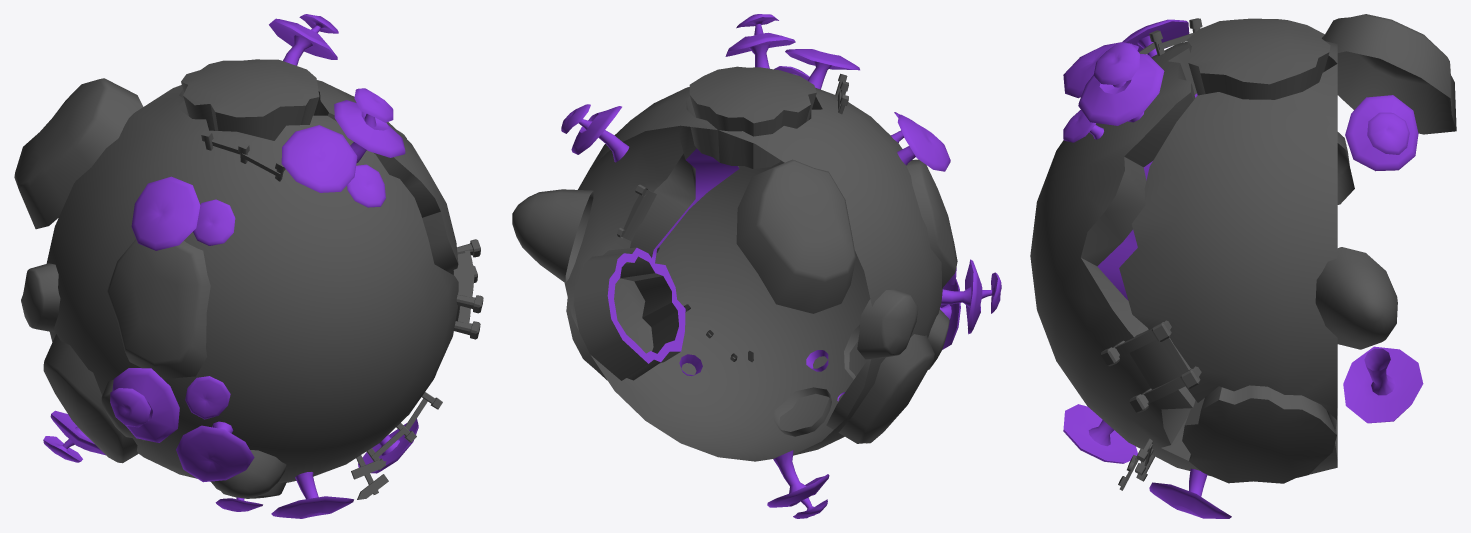
Rendered from IG_planet_01.fbx.
3 views of the same model, side by side, from view 1: azimuth 30°, elevation 25°; view 2: azimuth 150°, elevation 25°; view 3: azimuth 270°, elevation 25° (orthographic). The views are drawn at different scales.
Parts seen in each view (by area): view 1: planet_low, Mountain_05, Mountain_02, Mountain_01, Nshroom_tall_02, Nshroom_med_03, Nshroom_med, Nshroom_med_06, Nshroom_tall_01, Mountain_03, Nshroom_tall_03, bridge (+11 smaller); view 2: planet_low, Mountain_02, Mountain_01, Hill_03, Mountain_03, Mountain_05, Nshroom_tall_03, Nshroom_med_03, Nshroom_tall_04, Nshroom_tall_02, Nshroom_tall_01, Nshroom_med (+4 smaller); view 3: planet_low, Mountain_02, Hill_03, Nshroom_tall_01, Nshroom_tall_04, Nshroom_tall_03, bridge, Nshroom_med_08, Nshroom_med_10, Nshroom_med, Nshroom_med_03, Mountain_03 (+3 smaller).
Boxes of the visible parts, box(x1,y1,x2,y2) form: planet_low: box(46, 59, 458, 482); Mountain_05: box(107, 239, 210, 379); Mountain_02: box(14, 78, 143, 229); Mountain_01: box(43, 334, 138, 463); Nshroom_tall_02: box(110, 368, 179, 442); Nshroom_med_03: box(131, 176, 200, 250); Nshroom_med: box(281, 125, 357, 192); Nshroom_med_06: box(176, 421, 254, 482); Nshroom_tall_01: box(334, 88, 405, 162); Mountain_03: box(21, 263, 60, 332); Nshroom_tall_03: box(269, 14, 338, 65); bridge: box(453, 239, 483, 339); planet_low: box(564, 66, 942, 461); Mountain_02: box(736, 159, 855, 313); Mountain_01: box(826, 334, 934, 443); Hill_03: box(512, 189, 593, 282); Mountain_03: box(857, 289, 918, 359); Mountain_05: box(906, 159, 957, 288); Nshroom_tall_03: box(561, 104, 629, 162); Nshroom_med_03: box(897, 114, 950, 171); Nshroom_tall_04: box(767, 450, 829, 518); Nshroom_tall_02: box(941, 259, 1001, 334); Nshroom_tall_01: box(725, 14, 795, 68); Nshroom_med: box(785, 49, 859, 89); planet_low: box(1030, 18, 1337, 483); Mountain_02: box(1323, 14, 1456, 134); Hill_03: box(1315, 247, 1397, 349); Nshroom_tall_01: box(1078, 42, 1164, 125); Nshroom_tall_04: box(1343, 346, 1423, 423); Nshroom_tall_03: box(1345, 95, 1418, 171); bridge: box(1101, 320, 1201, 413); Nshroom_med_08: box(1063, 404, 1137, 463); Nshroom_med_10: box(1149, 468, 1231, 518); Nshroom_med: box(1063, 42, 1138, 98); Nshroom_med_03: box(1122, 19, 1189, 57); Mountain_03: box(1337, 132, 1354, 204).
Bounding box in the file's own units: 191 × 185 × 158.
